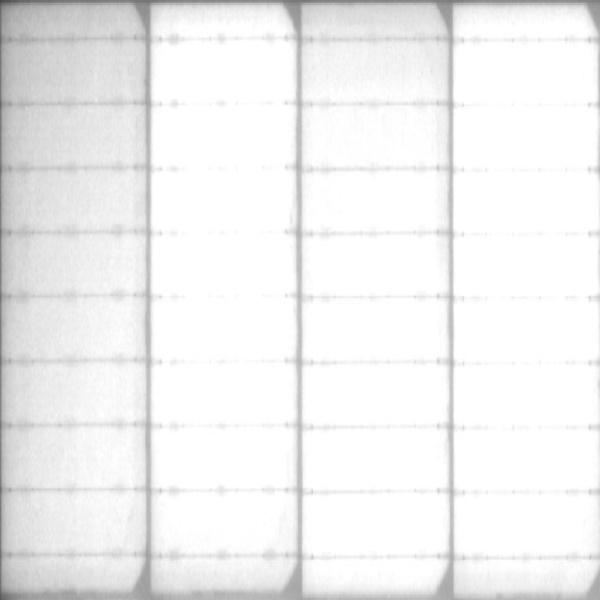hot_spot: (466, 433, 588, 554), (157, 364, 294, 421), (460, 44, 586, 104), (461, 237, 595, 293), (309, 496, 442, 552), (459, 111, 594, 166), (311, 434, 445, 489), (464, 367, 591, 425), (464, 175, 592, 232), (463, 305, 594, 360), (313, 107, 438, 164), (159, 432, 293, 485), (157, 44, 283, 100), (314, 302, 442, 357), (315, 175, 440, 230), (315, 368, 440, 423), (160, 113, 291, 164), (159, 306, 290, 356), (160, 242, 290, 292), (158, 175, 285, 225), (158, 499, 291, 546), (314, 243, 438, 292), (318, 559, 423, 585), (463, 564, 580, 587)
